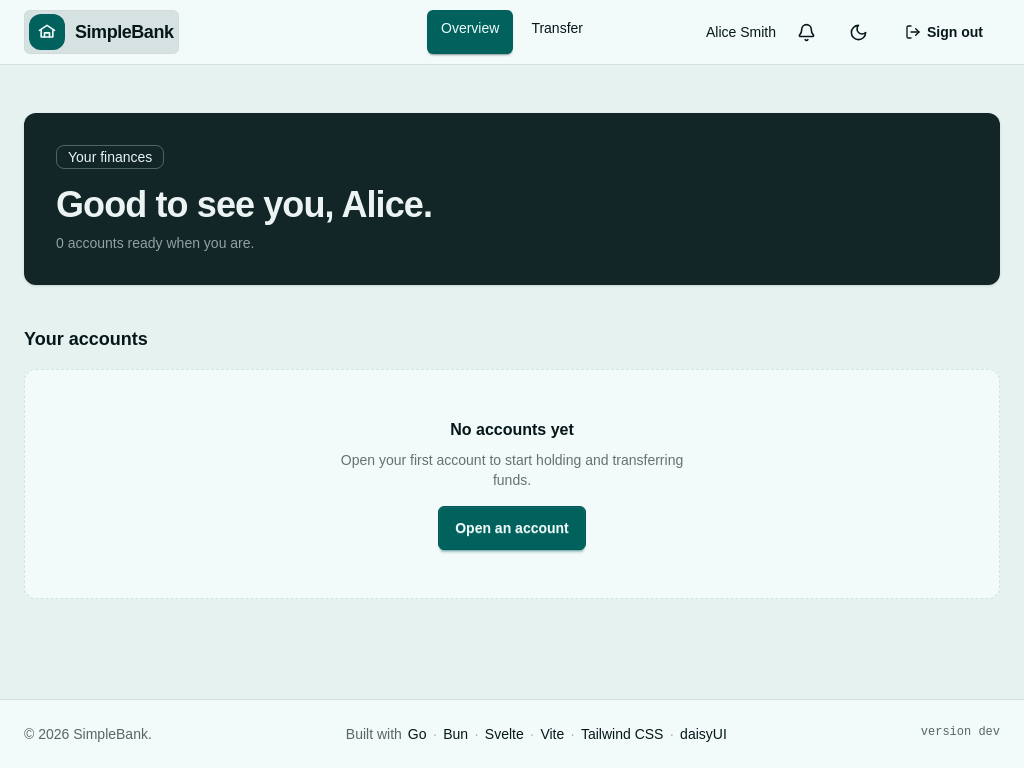
Test: App routing › shows one-shot server logout failure feedback after local sign-out
Click the button "Sign out" at (944, 32), box [888,10,1000,54]
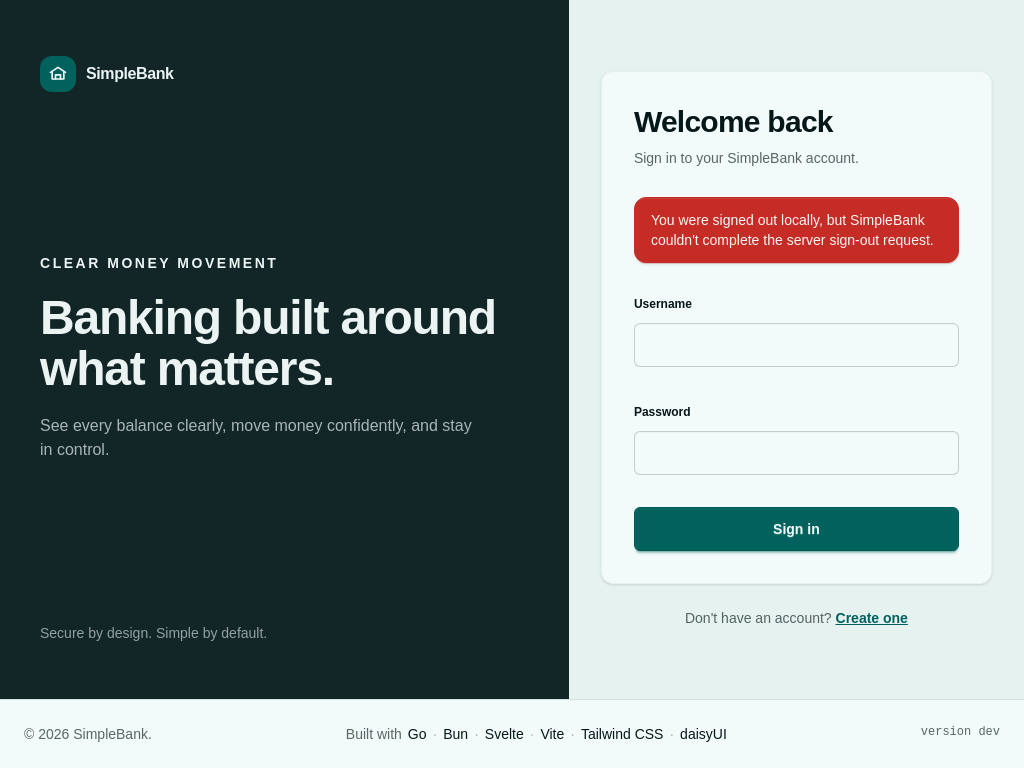
Expected: the heading "Welcome back" is shown, [634,105,833,138]
Expected: the message shows "You were signed out locally, but SimpleBank couldn't complete the server sign-out request.", [651,212,934,248]
